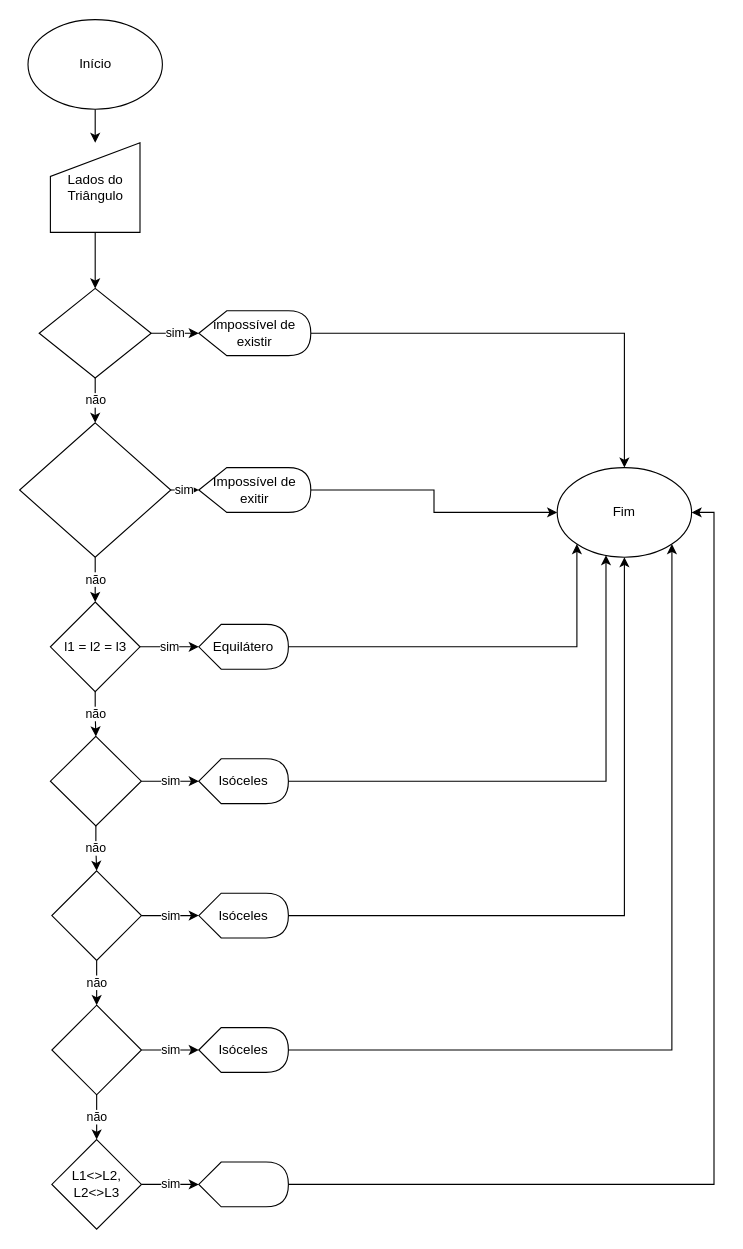
Some shapes in this 743 by 1249 pixel diagram are drawn without their labels. Here are the shapes that lost their labels. From the top down, the box of each, then its label:
(38, 287, 151, 378): algum lado =0
(18, 422, 171, 557): Algum lado>= que a somatória dos outros lados
(49, 735, 141, 826): L1=L2, L1<>L3
(51, 870, 141, 960): L2=L3, L2<>L1
(51, 1004, 141, 1095): L3=L1, L3<>L2
(198, 1161, 288, 1207): Escaleno
